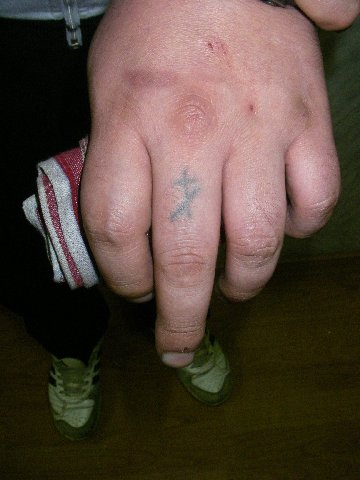tatu9_krest: (168, 163, 202, 229)
